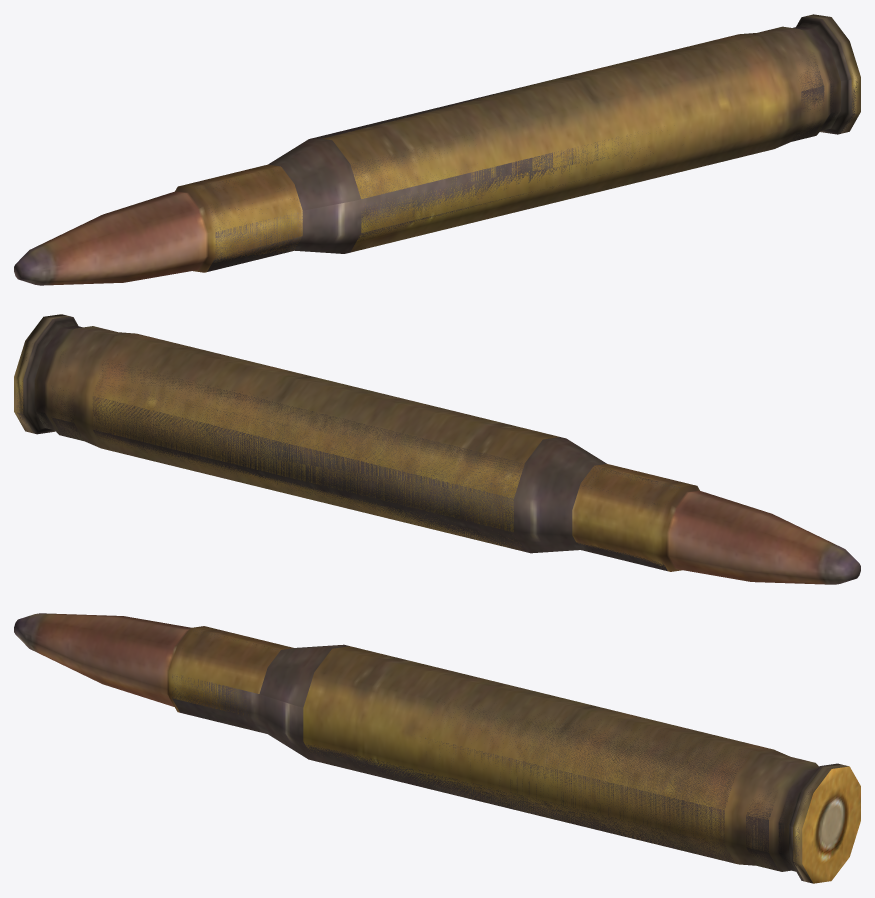
Rendered from shells_01.fbx.
The picture shows the model from 3 angles, top to bottom: view 1: azimuth 30°, elevation 25°; view 2: azimuth 150°, elevation 25°; view 3: azimuth 330°, elevation 25°; orthographic projection.
Visible parts, largest first — view 1: shell_01, shell_casing_02; view 2: shell_01, shell_casing_02; view 3: shell_01, shell_casing_02.
Part boxes in pixels (x1=…): shell_01: x1=14, y1=14, x2=860, y2=285; shell_casing_02: x1=193, y1=16, x2=857, y2=271; shell_01: x1=14, y1=314, x2=860, y2=584; shell_casing_02: x1=17, y1=316, x2=680, y2=571; shell_01: x1=14, y1=613, x2=860, y2=883; shell_casing_02: x1=172, y1=629, x2=839, y2=881.
Bounding box in the file's own units: 69.98 × 9.21 × 8.76.
